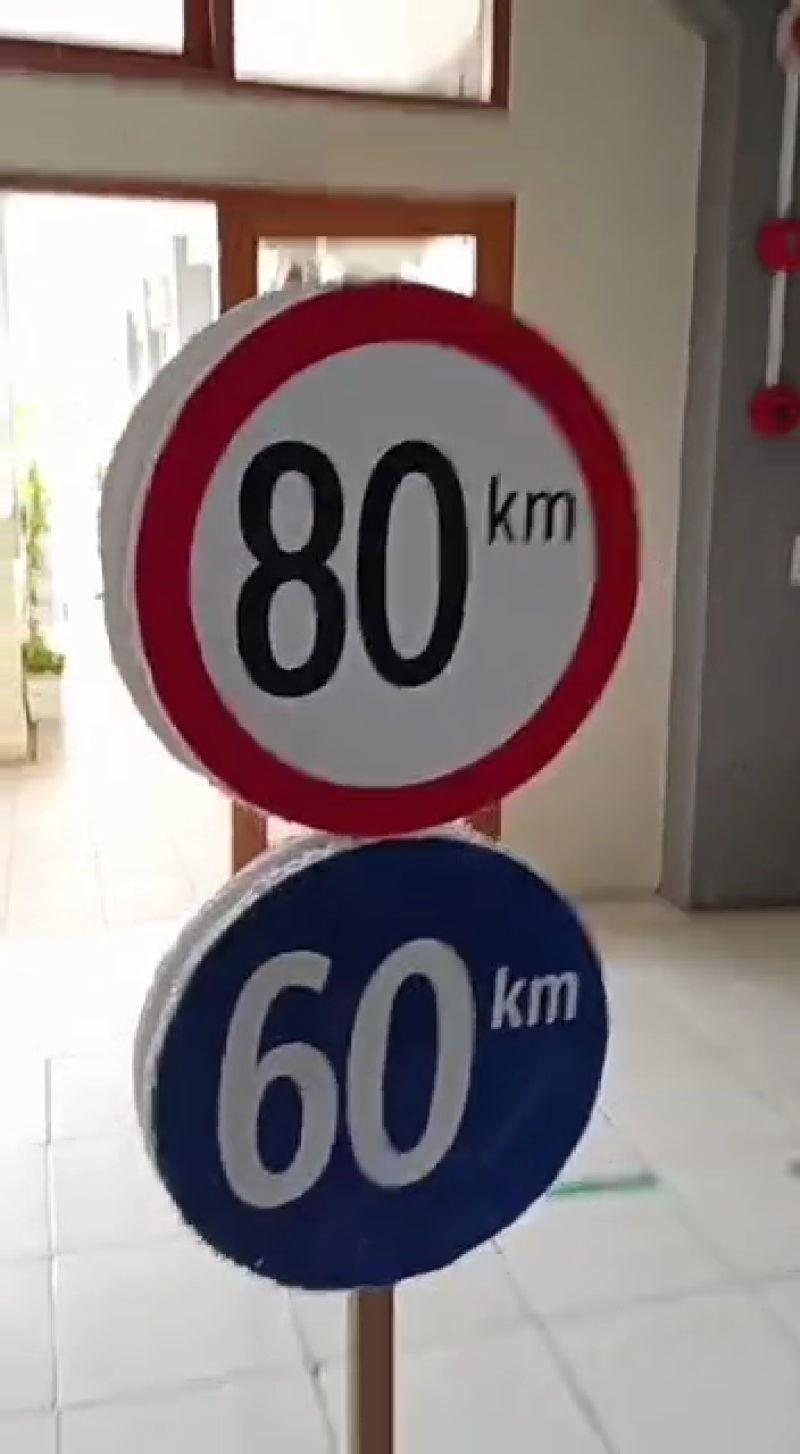batas maksimal 80kmperjam minimal 60kmperjam: (131, 273, 642, 1287)
